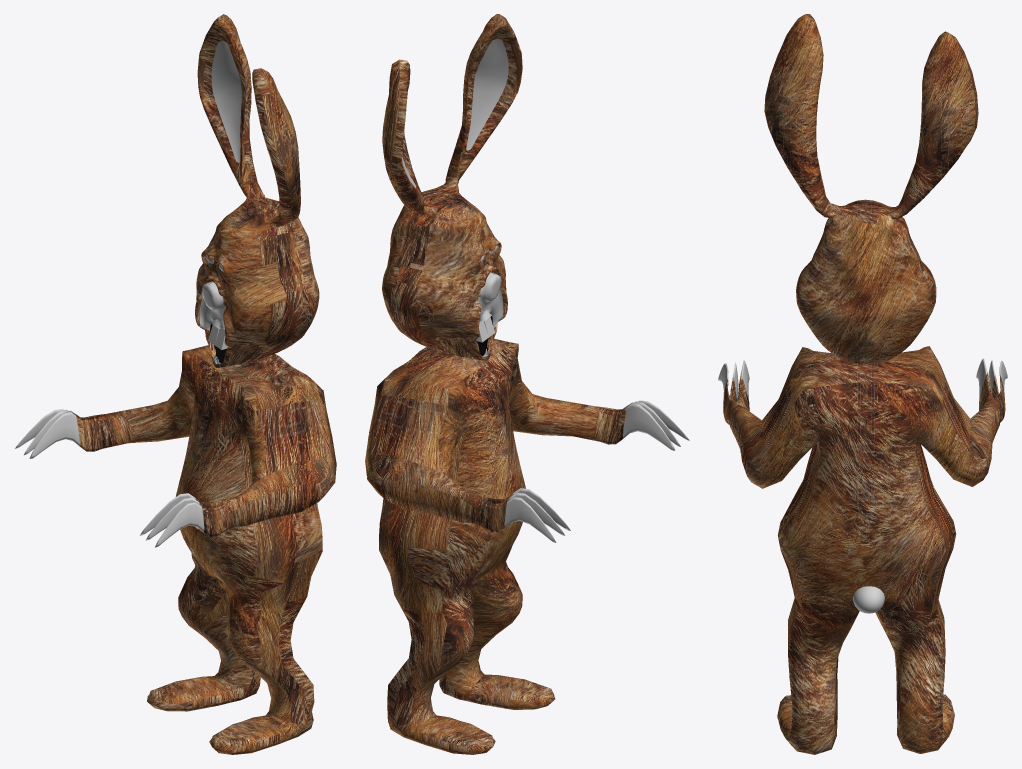
The model's file is Lapin.FBX.
3 renders of one model, left to right at view 1: azimuth 30°, elevation 25°; view 2: azimuth 150°, elevation 25°; view 3: azimuth 270°, elevation 25°, orthographic. The views are drawn at different scales.
Visible parts, largest first — view 1: Box004; view 2: Box004; view 3: Box004.
Part boxes in pixels (x1,y1,x2,y2): Box004: (15,14,336,754); Box004: (365,14,689,754); Box004: (718,14,1007,754).
Size of the model in its own units: 12.15 by 34.31 by 12.52.
